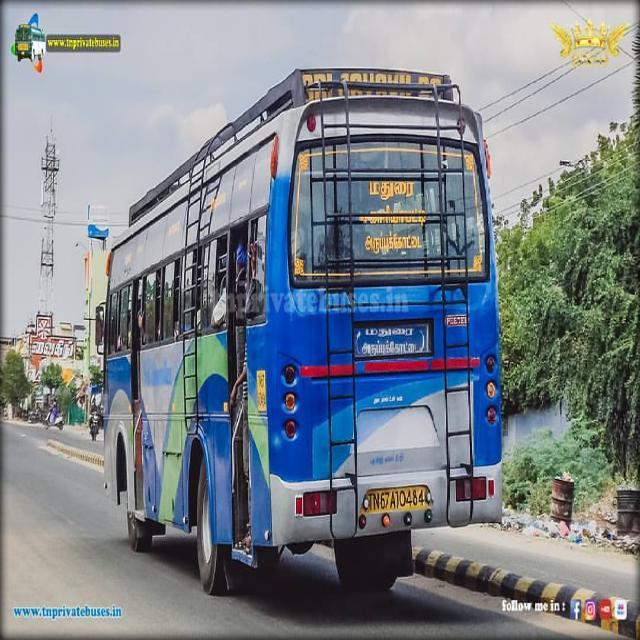Bus: (92, 67, 508, 602)
